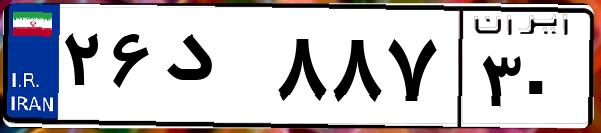0: (525, 38, 570, 115)
2: (57, 26, 110, 100)
3: (475, 38, 525, 113)
6: (110, 28, 158, 98)
7: (385, 28, 445, 110)
8: (270, 28, 330, 110), (330, 28, 385, 110)
د: (158, 20, 270, 120)
